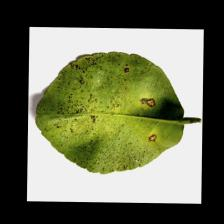canker: (45, 54, 180, 162)
